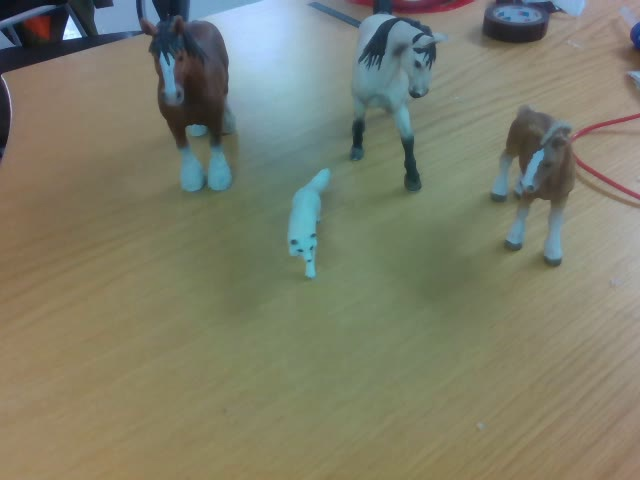toy: (351, 1, 444, 192), (139, 11, 231, 193), (490, 103, 575, 266), (286, 170, 329, 279)
